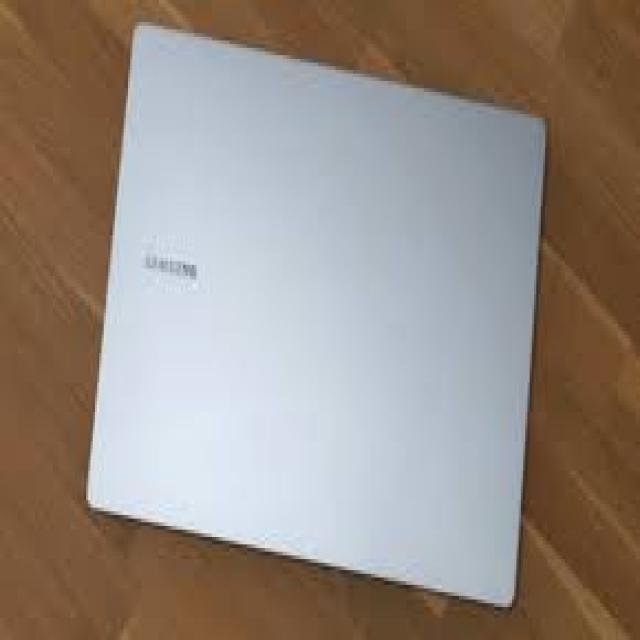laptop: (84, 18, 548, 616)
